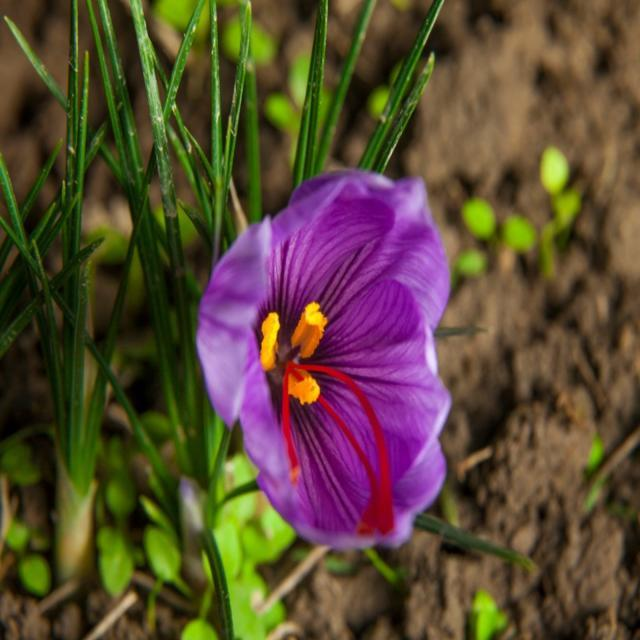Flower: (193, 170, 451, 552)
stigma: (314, 358, 400, 540), (260, 349, 314, 490)
